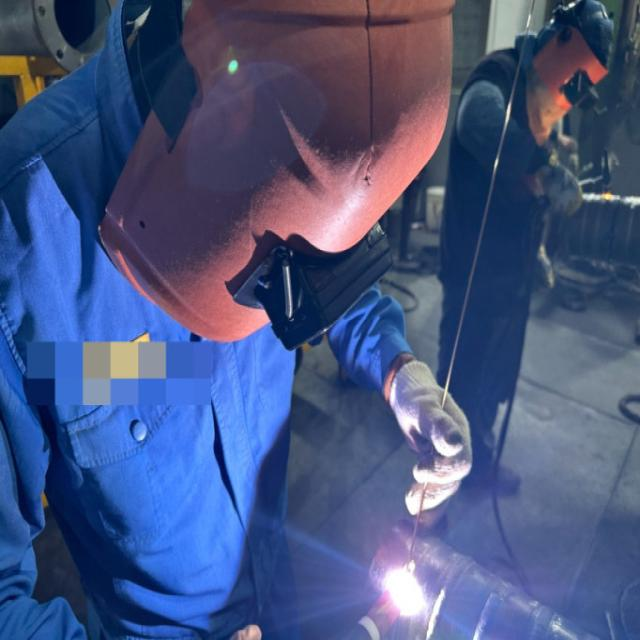welding: (389, 562, 425, 614)
